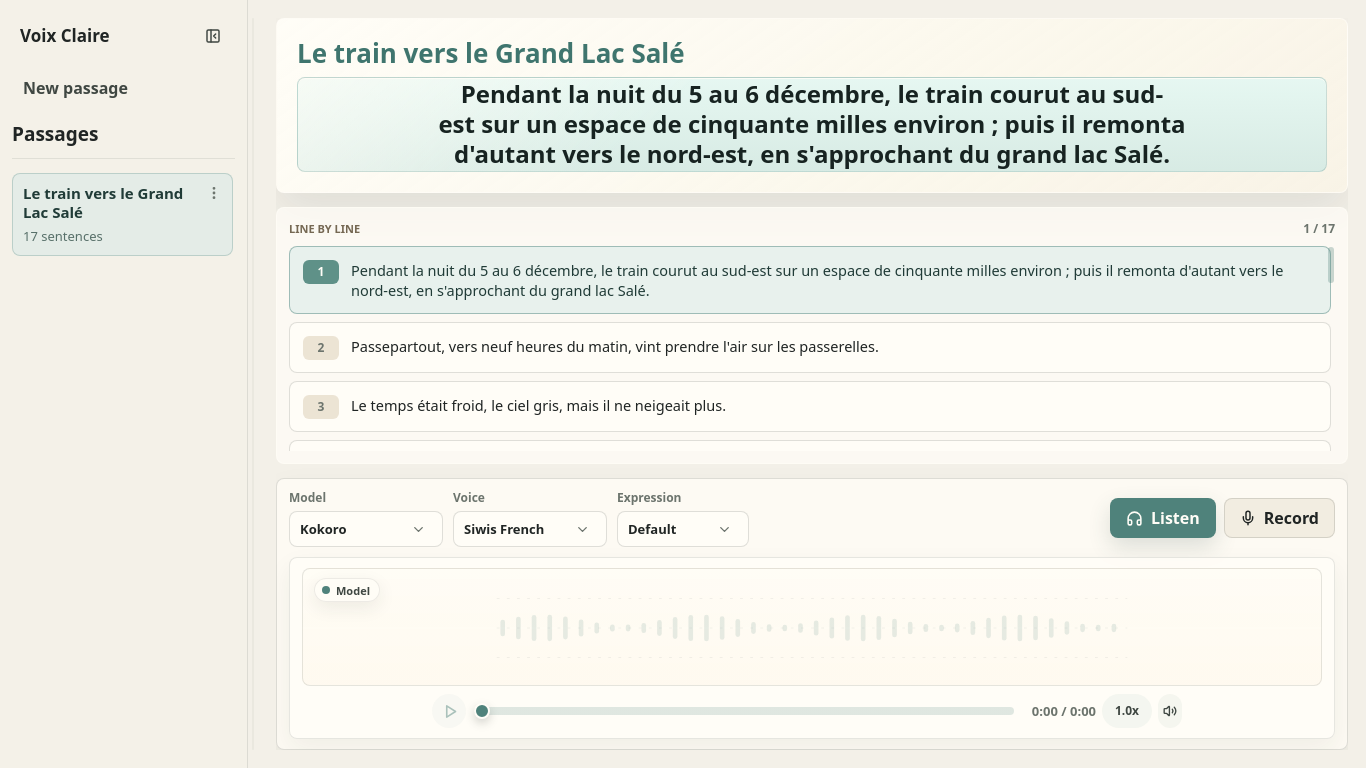
Test: App › creates a passage from New passage and moves into practice
Step 1. Click the button "New passage" → (124, 89), box left=12, top=70, right=235, bottom=108
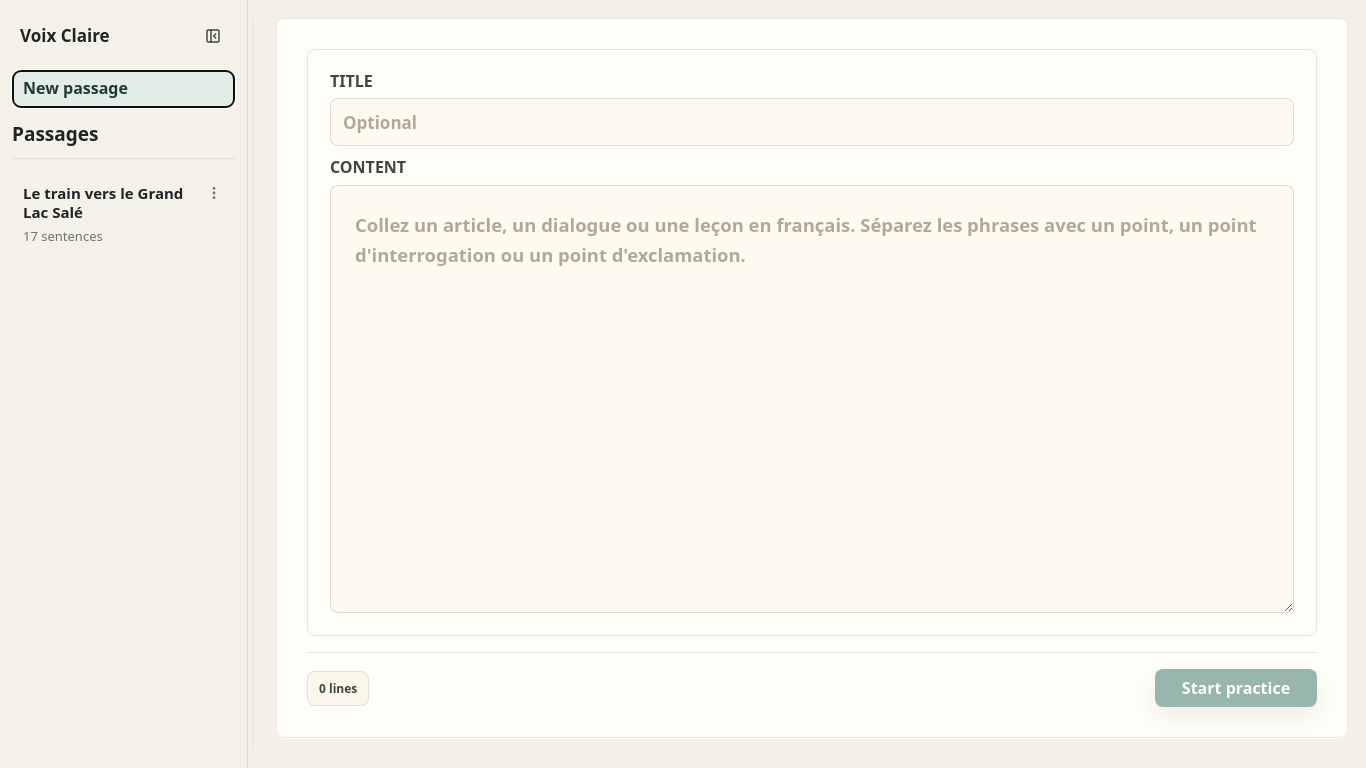
Step 2. Type "Dialogue au cafe" into the field labelled "Title" → (812, 122), box left=330, top=98, right=1294, bottom=146
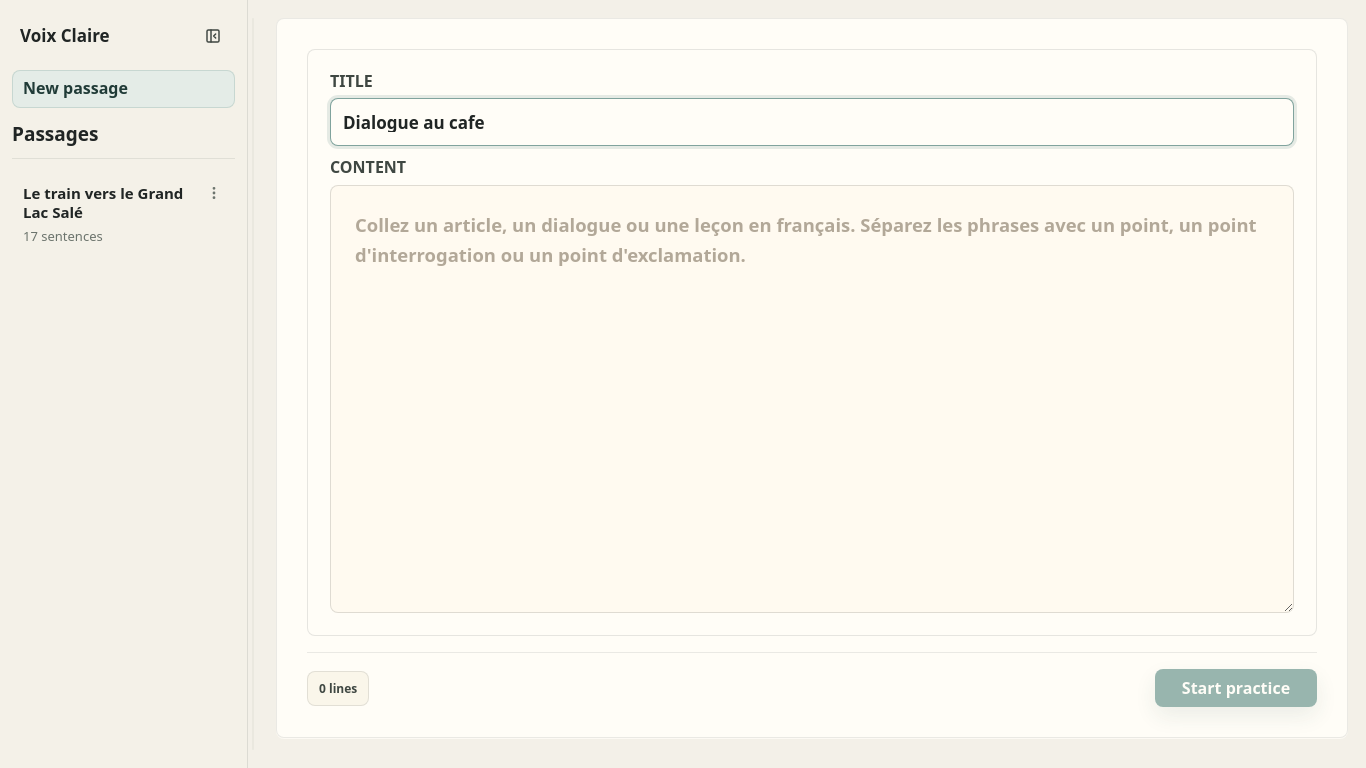
Step 3. Type "Bonjour. Je voudrais un cafe creme." into the text box labelled "Content" → (812, 399), box left=330, top=185, right=1294, bottom=613
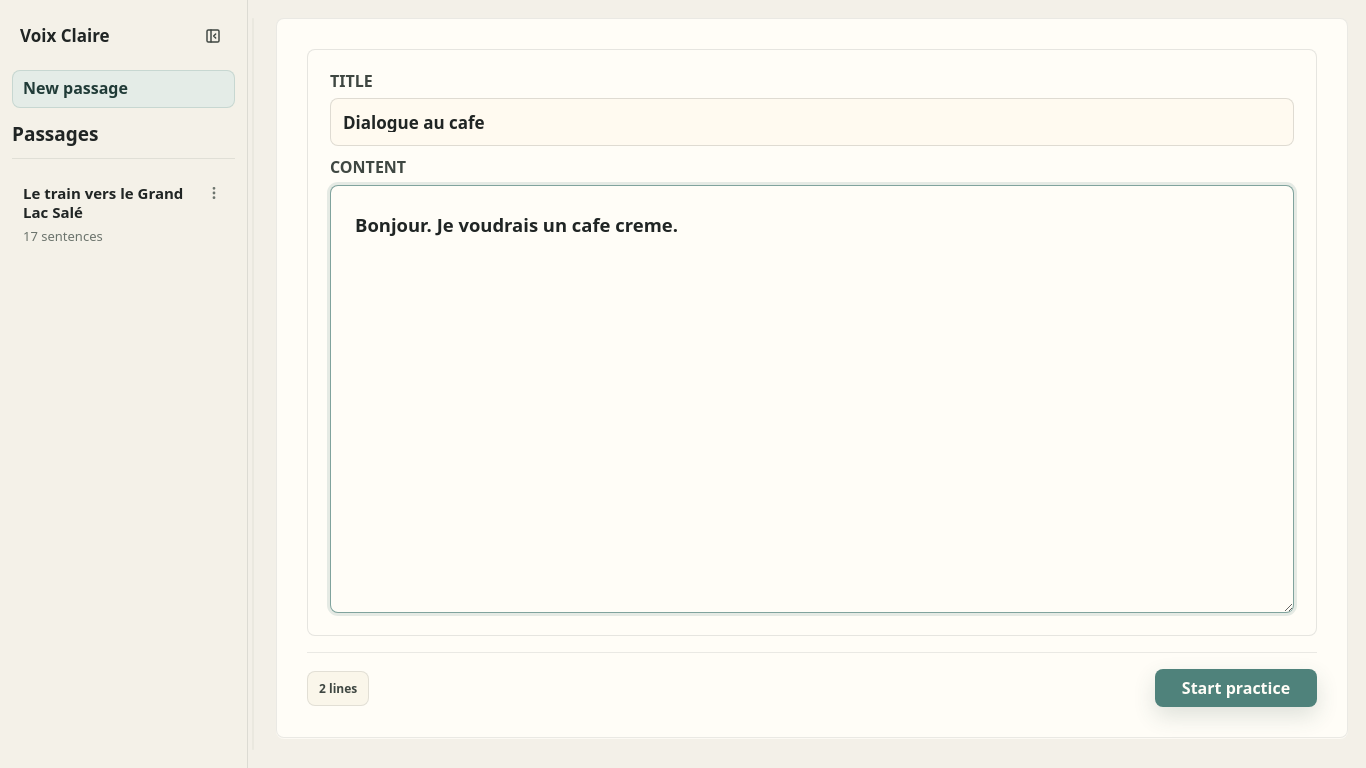
Step 4. Click the button "Start practice" → (1236, 688), box left=1155, top=669, right=1317, bottom=707
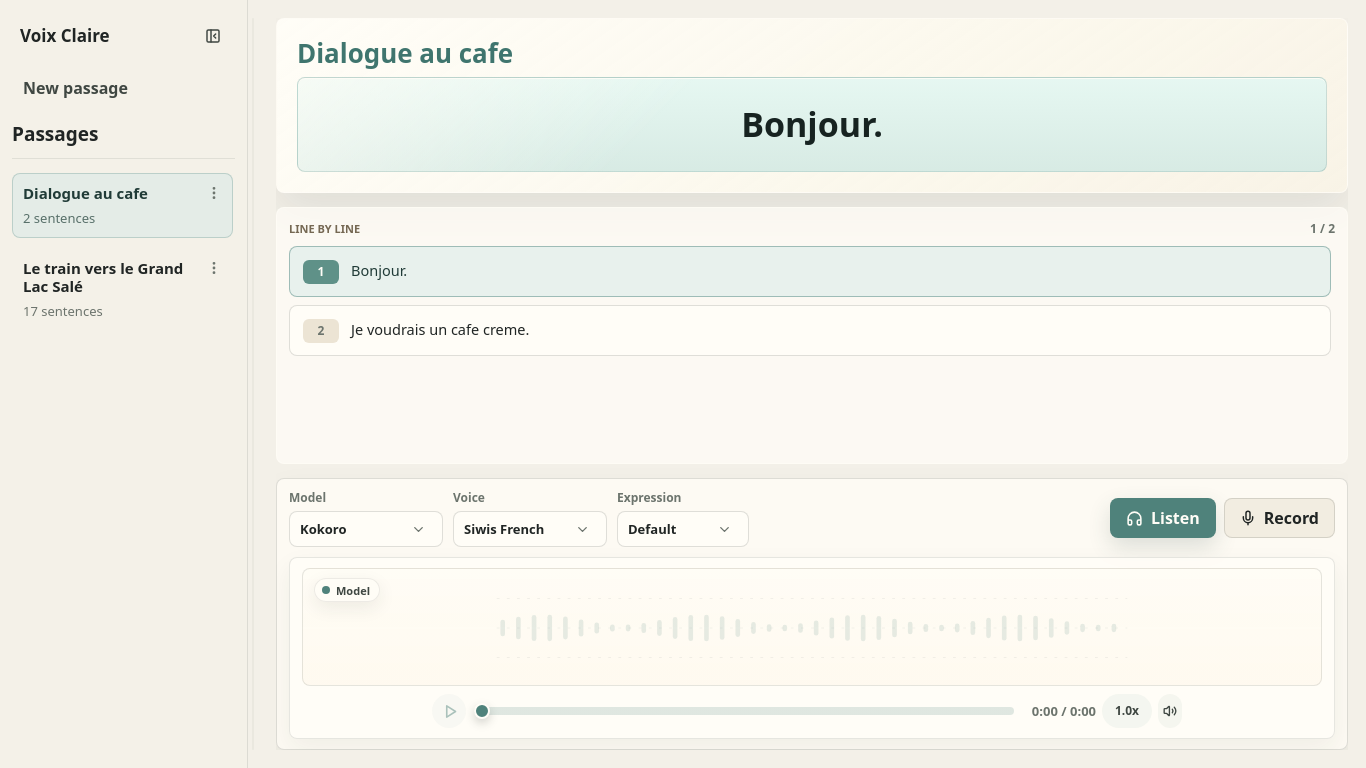
Result: the button with aria-label "Dialogue au cafe, 2 sentences" is shown at left=12, top=173, right=233, bottom=238
